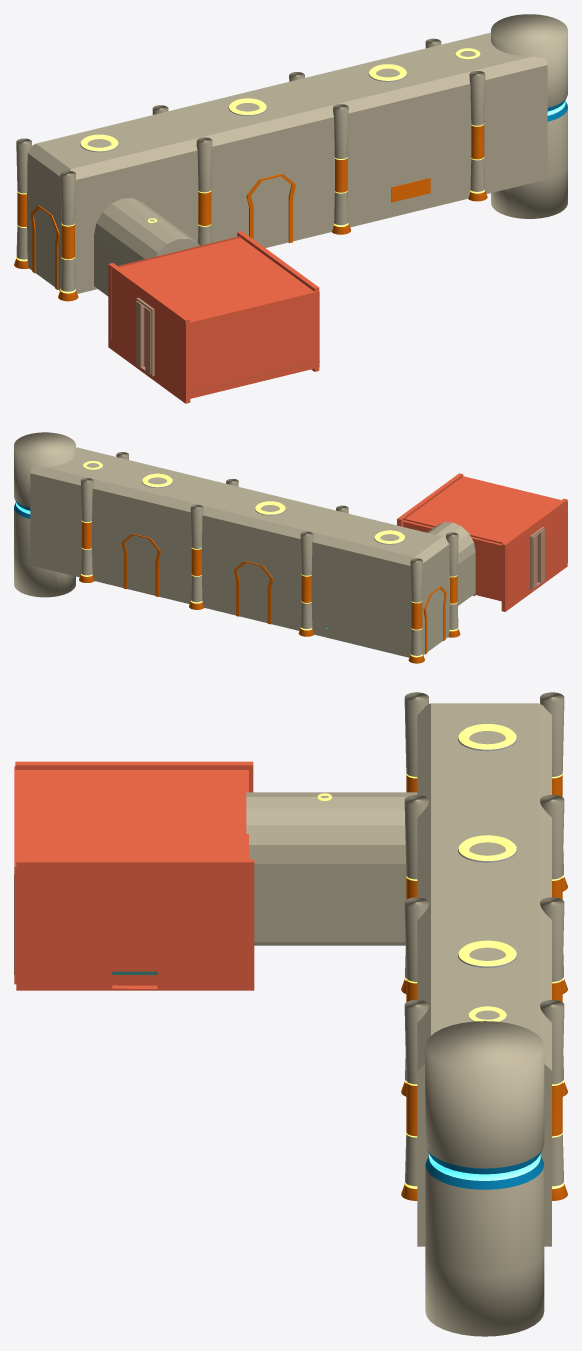
The model's file is CouloirBureauV6.fbx.
3 views of the same model, one above another, from view 1: azimuth 30°, elevation 25°; view 2: azimuth 150°, elevation 25°; view 3: azimuth 270°, elevation 25° (orthographic). The views are drawn at different scales.
Visible parts, largest first — view 1: CouloirPropre, mur face, Piliers, Cylinder, mur droite, Mur sortant, Porte.001, mur gauche, Cube.040, Porte.009; view 2: CouloirPropre, Piliers, mur face, Cylinder, mur droite, mURvERScOULOIR, Mur sortant, Porte.007, Porte.005, mur gauche, Porte.009; view 3: CouloirPropre, Cylinder, mur gauche, mur face, Piliers, mur droite, Torus.003, Torus.006, Torus.004.
Boxes of the visible parts, x1=… form: CouloirPropre: x1=27, y1=32, x2=547, y2=296; mur face: x1=119, y1=238, x2=319, y2=399; Piliers: x1=14, y1=38, x2=487, y2=301; Cylinder: x1=491, y1=14, x2=567, y2=218; mur droite: x1=108, y1=263, x2=190, y2=403; Mur sortant: x1=136, y1=297, x2=154, y2=376; Porte.001: x1=246, y1=173, x2=295, y2=243; mur gauche: x1=237, y1=231, x2=319, y2=371; Cube.040: x1=391, y1=178, x2=430, y2=202; Porte.009: x1=31, y1=205, x2=59, y2=289; CouloirPropre: x1=30, y1=447, x2=475, y2=657; Piliers: x1=79, y1=452, x2=460, y2=663; mur face: x1=402, y1=476, x2=567, y2=562; Cylinder: x1=14, y1=432, x2=75, y2=597; mur droite: x1=501, y1=498, x2=567, y2=611; mURvERScOULOIR: x1=403, y1=518, x2=508, y2=602; Mur sortant: x1=530, y1=527, x2=544, y2=590; Porte.007: x1=121, y1=533, x2=160, y2=596; Porte.005: x1=234, y1=561, x2=272, y2=624; mur gauche: x1=397, y1=473, x2=463, y2=526; Porte.009: x1=423, y1=586, x2=446, y2=654; CouloirPropre: x1=246, y1=703, x2=551, y2=1246; Cylinder: x1=425, y1=1021, x2=544, y2=1336; mur gauche: x1=16, y1=859, x2=254, y2=990; mur face: x1=14, y1=766, x2=248, y2=984; Piliers: x1=401, y1=692, x2=567, y2=1200; mur droite: x1=15, y1=761, x2=253, y2=792; Torus.003: x1=458, y1=835, x2=517, y2=862; Torus.006: x1=458, y1=940, x2=517, y2=967; Torus.004: x1=458, y1=724, x2=517, y2=751.
Size of the model in its own units: 2059 by 636 by 1203.
